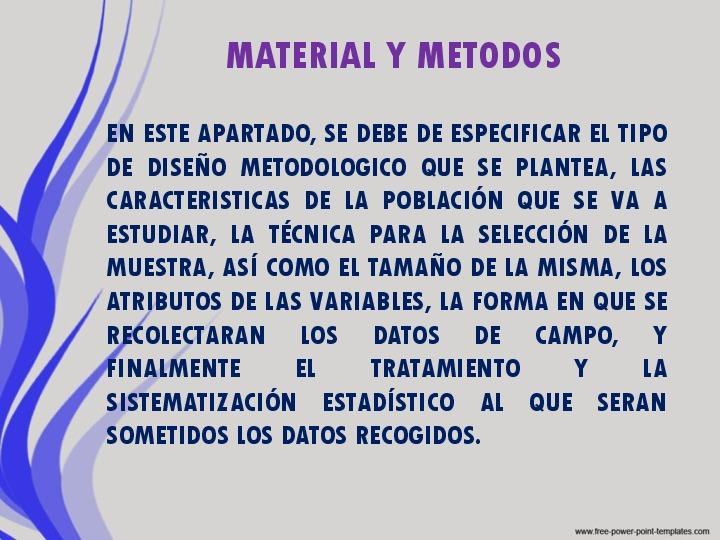paragraph: (97, 110, 701, 470)
title: (227, 35, 574, 86)
